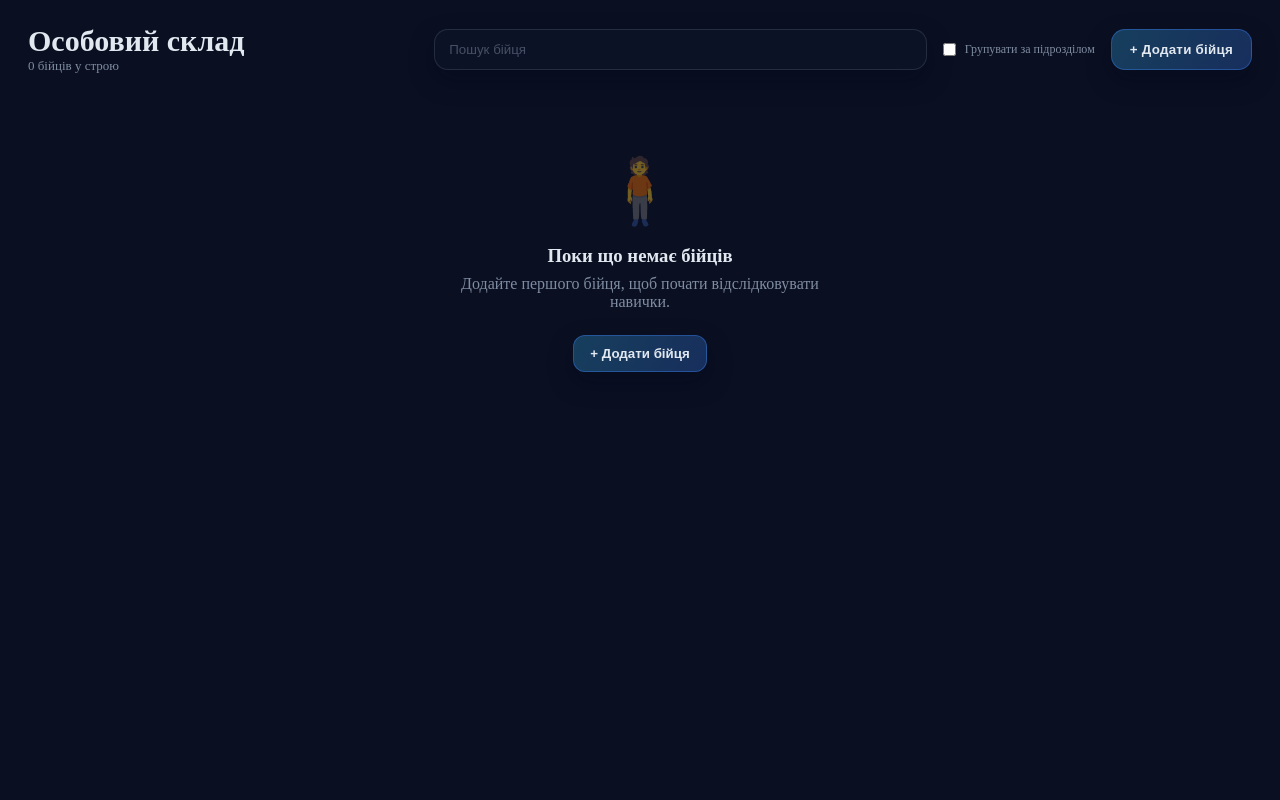
Scenario: Fighters page › resets create fighter modal state after cancellation
Click the button "+ Додати бійця" next to "Групувати за підрозділом". click: x=1181, y=49
box: [1111,28,1252,70]
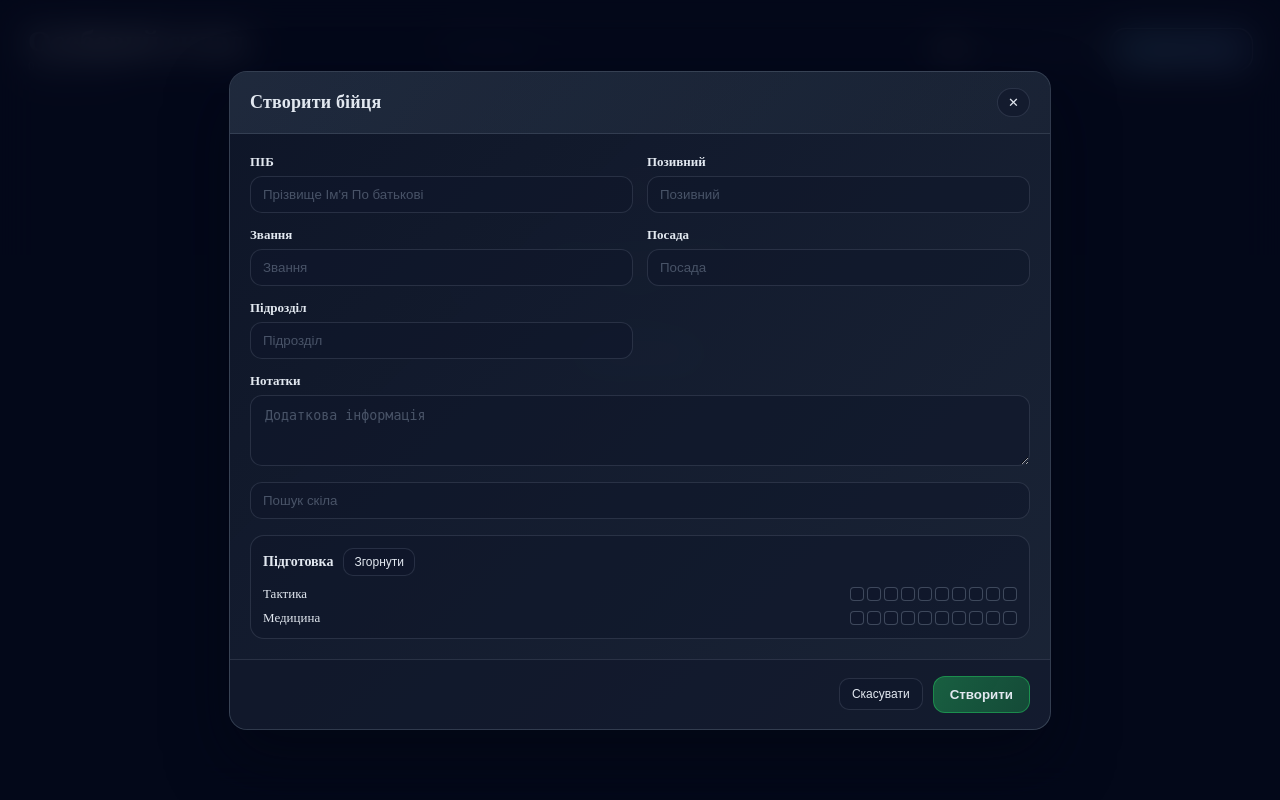
Type "Іван Іваненко" into the field with placeholder "Прізвище Ім'я По батькові". click: x=442, y=194
box: [250,176,633,212]
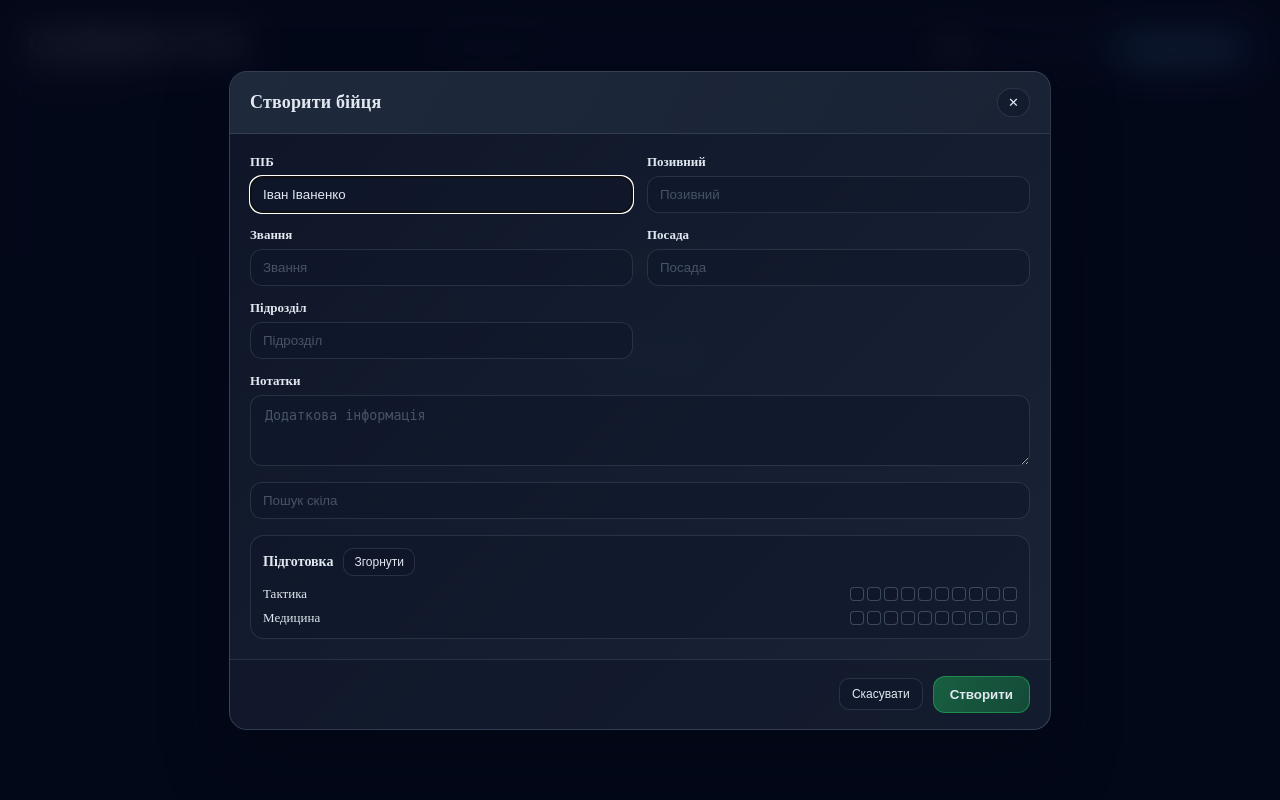
Type "так" into the field with placeholder "Пошук скіла". click: x=640, y=500
box: [250,482,1030,518]
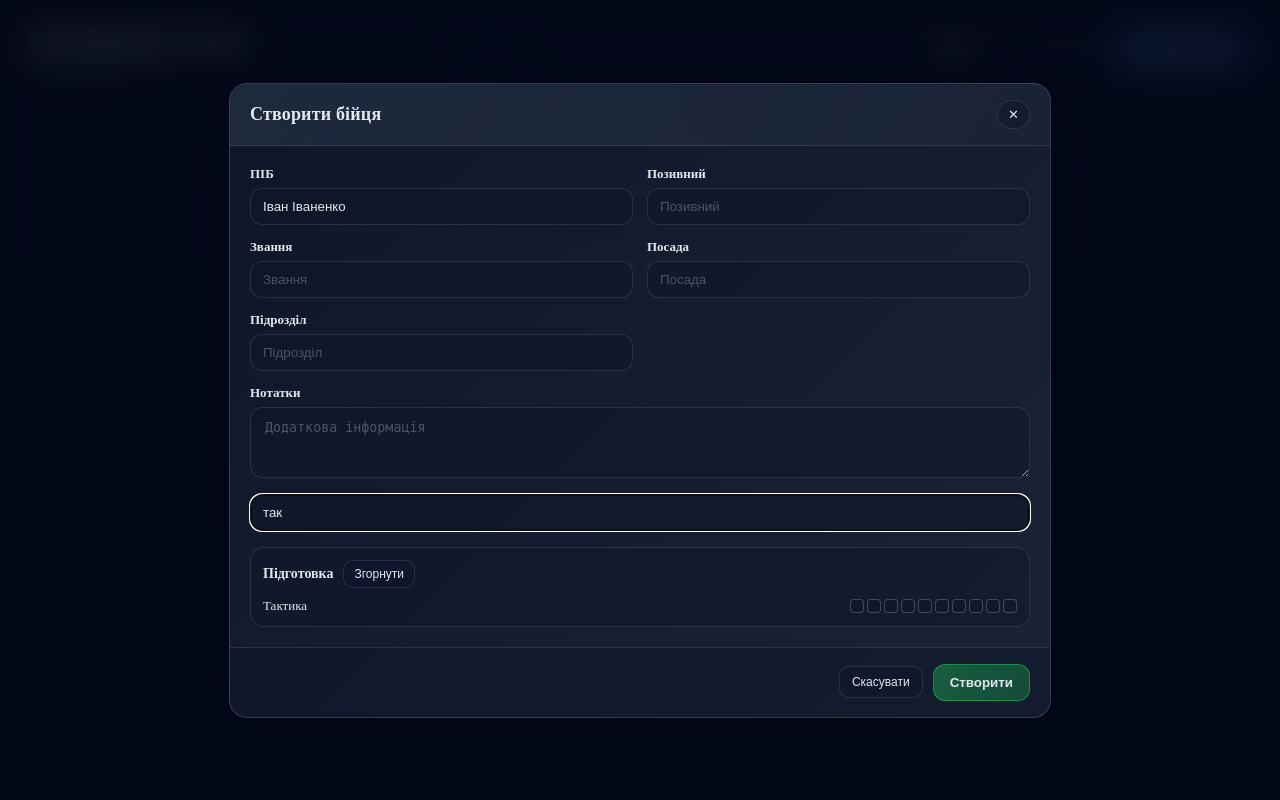
Click the button "Згорнути". click: x=379, y=574
box: [344,560,415,588]
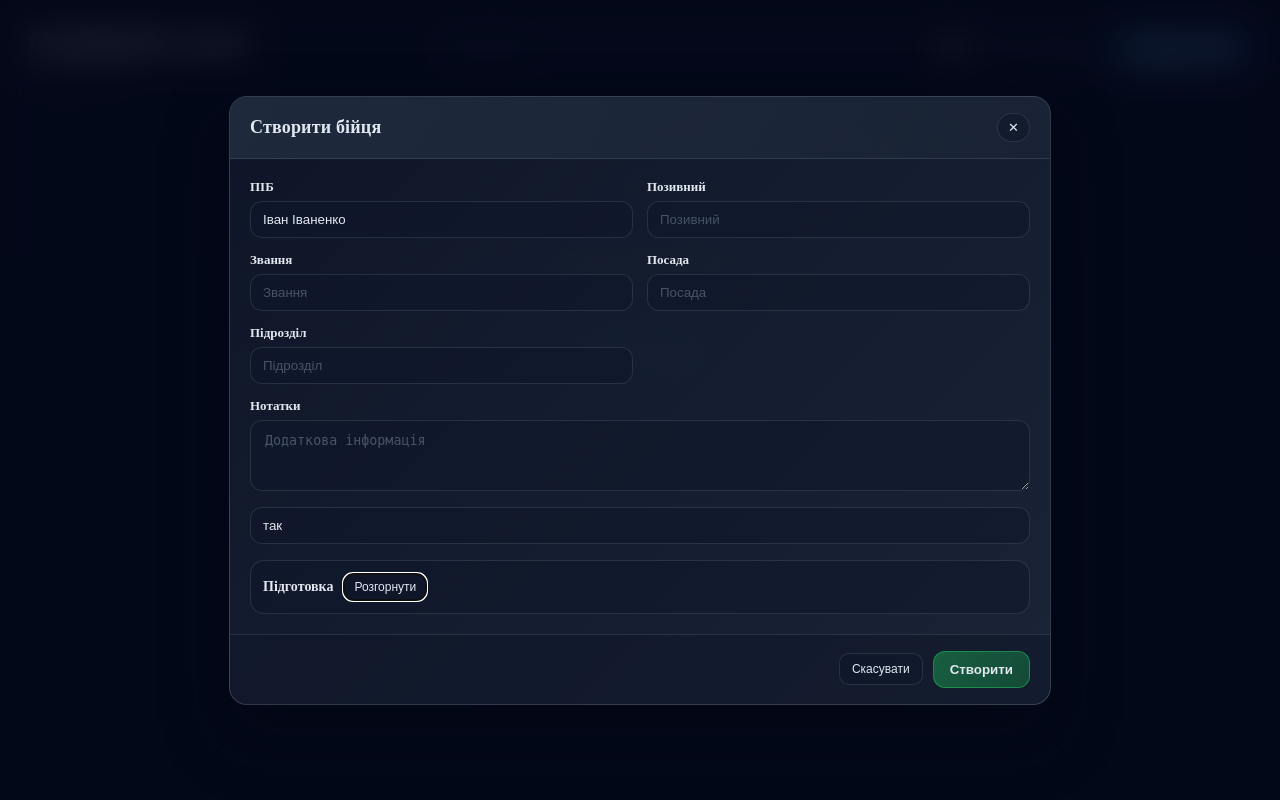
Now the button "Розгорнути" is shown, box [344,572,427,600]
Click the button "Скасувати". click: x=881, y=669
box: [839,653,923,685]
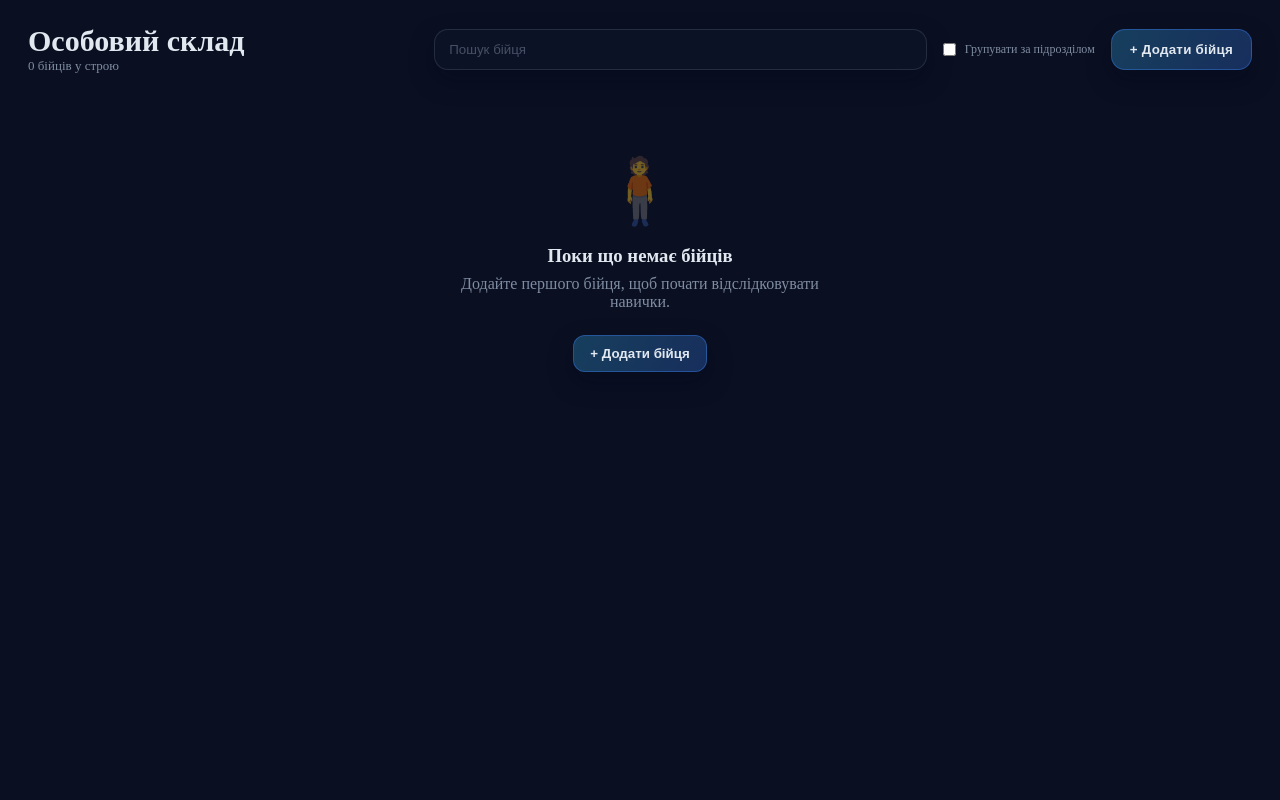
Now the text "Створити бійця" is gone
Click the button "+ Додати бійця" next to "Групувати за підрозділом". click: x=1181, y=49
box: [1111,28,1252,70]
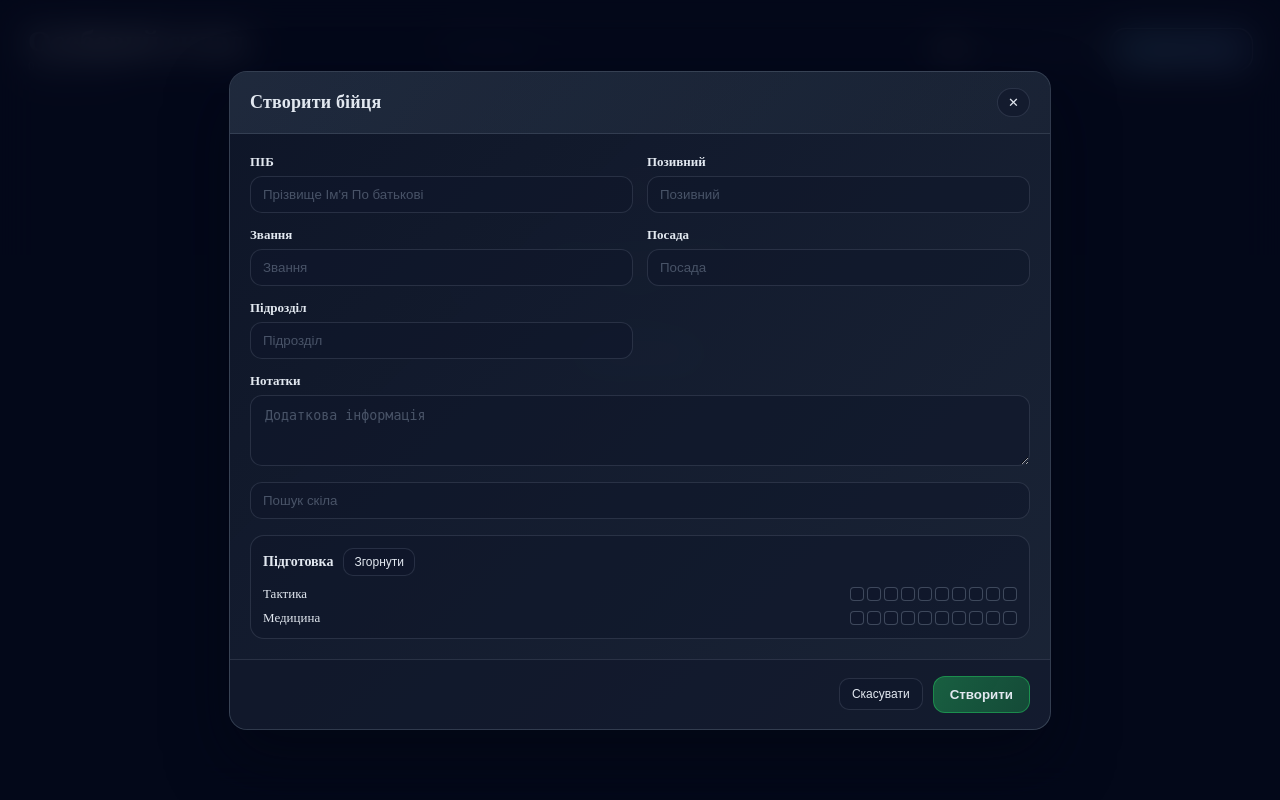
Now the field with placeholder "Прізвище Ім'я По батькові" is empty, box [250,176,633,212]
Now the field with placeholder "Пошук скіла" is empty, box [250,482,1030,518]
Now the button "Згорнути" is shown, box [344,548,415,576]
